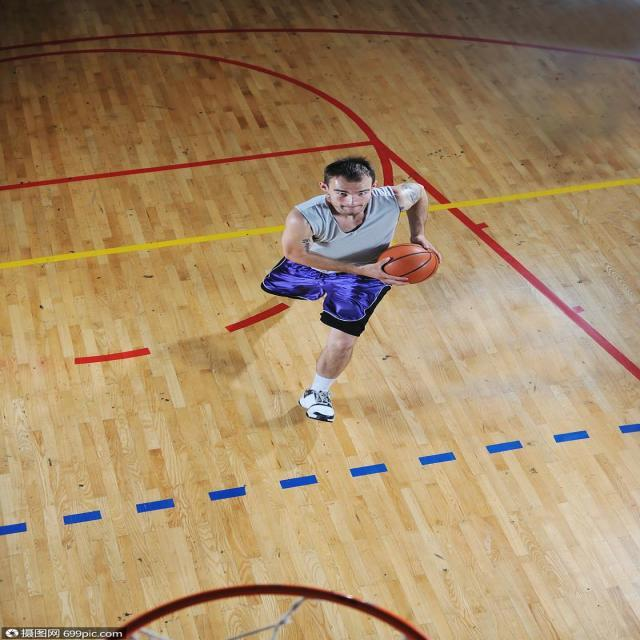rim: (382, 244, 441, 282)
